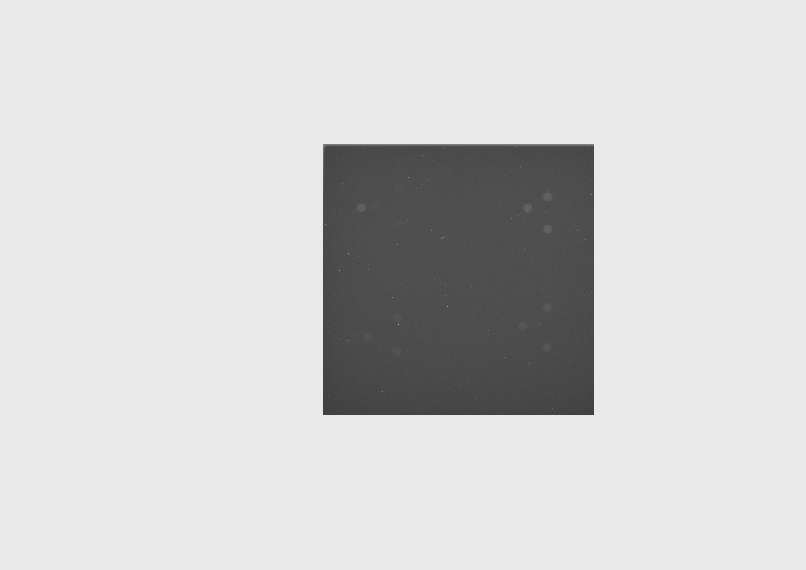cluster: (356, 180, 407, 232), (516, 302, 553, 354), (362, 312, 404, 357), (523, 193, 554, 234)
